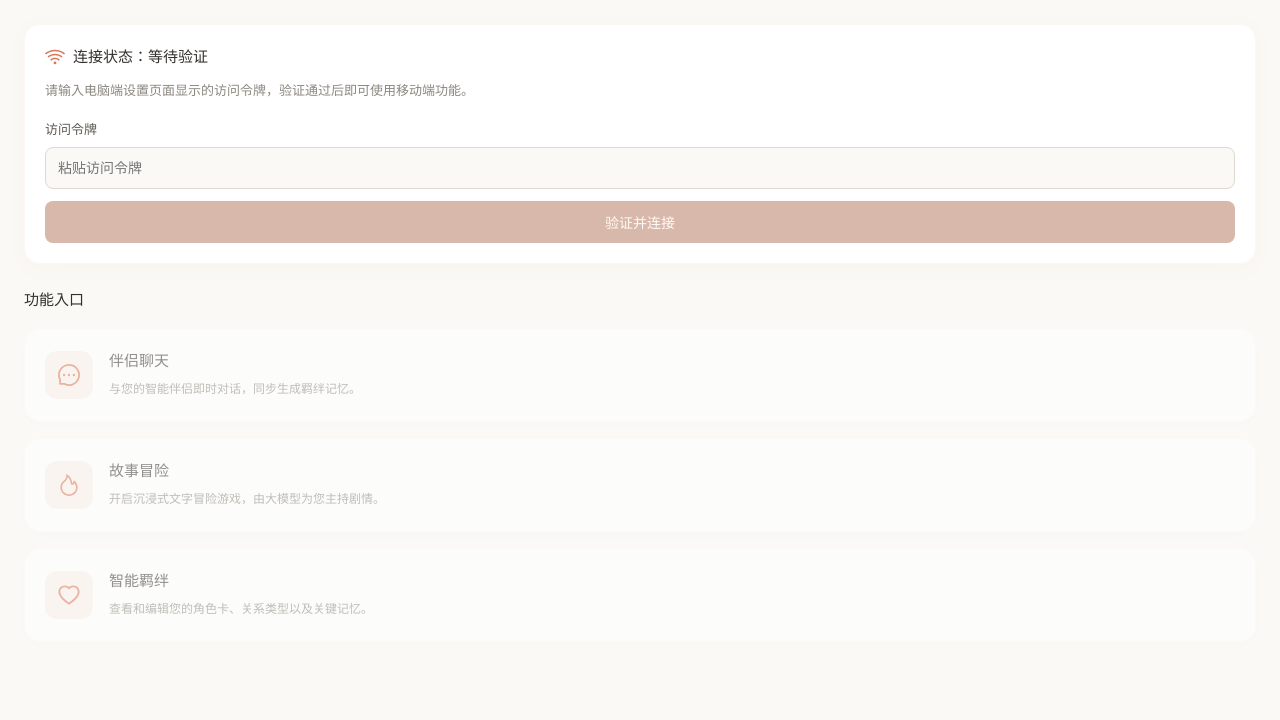
Test: MobileHome navigation buttons › rejects an invalid token and keeps feature entries disabled
The width and height of the screenshot is (1280, 720).
Type "invalid-token" into the password field labelled "访问令牌" at [640, 168], box [45,146,1235,188]
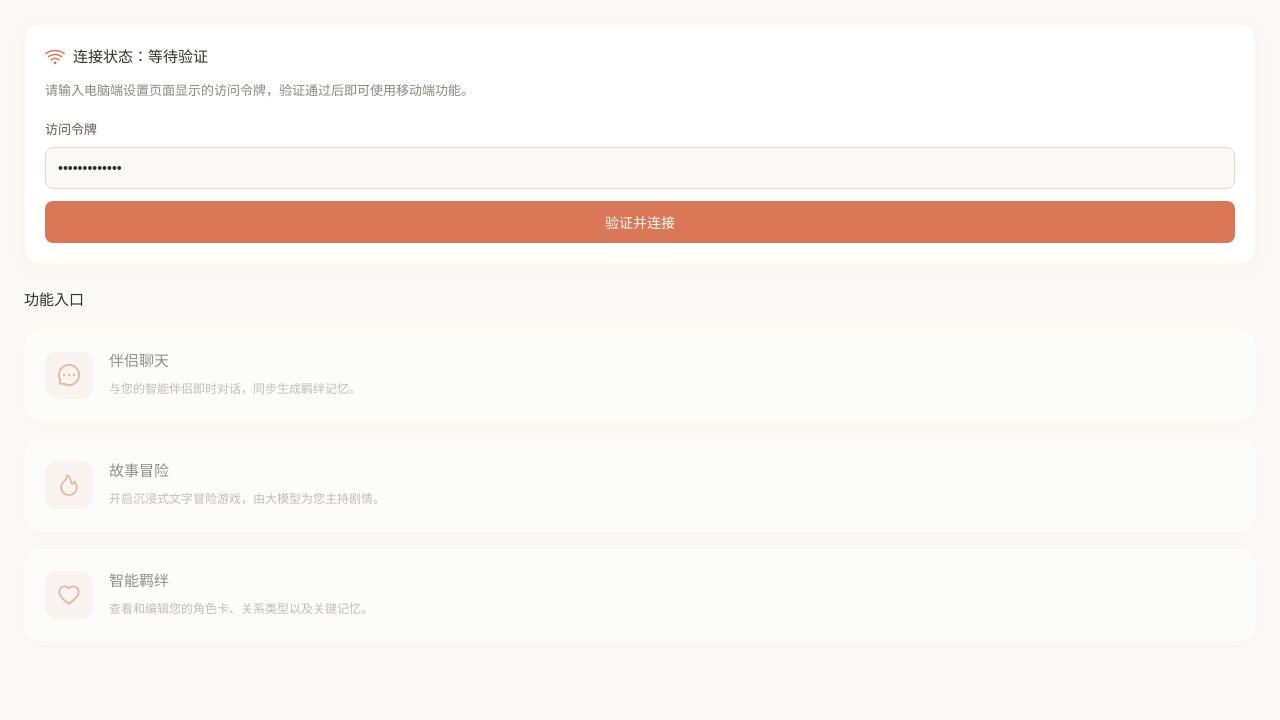
Click the button "验证并连接" at [640, 222], box [45,200,1235,242]
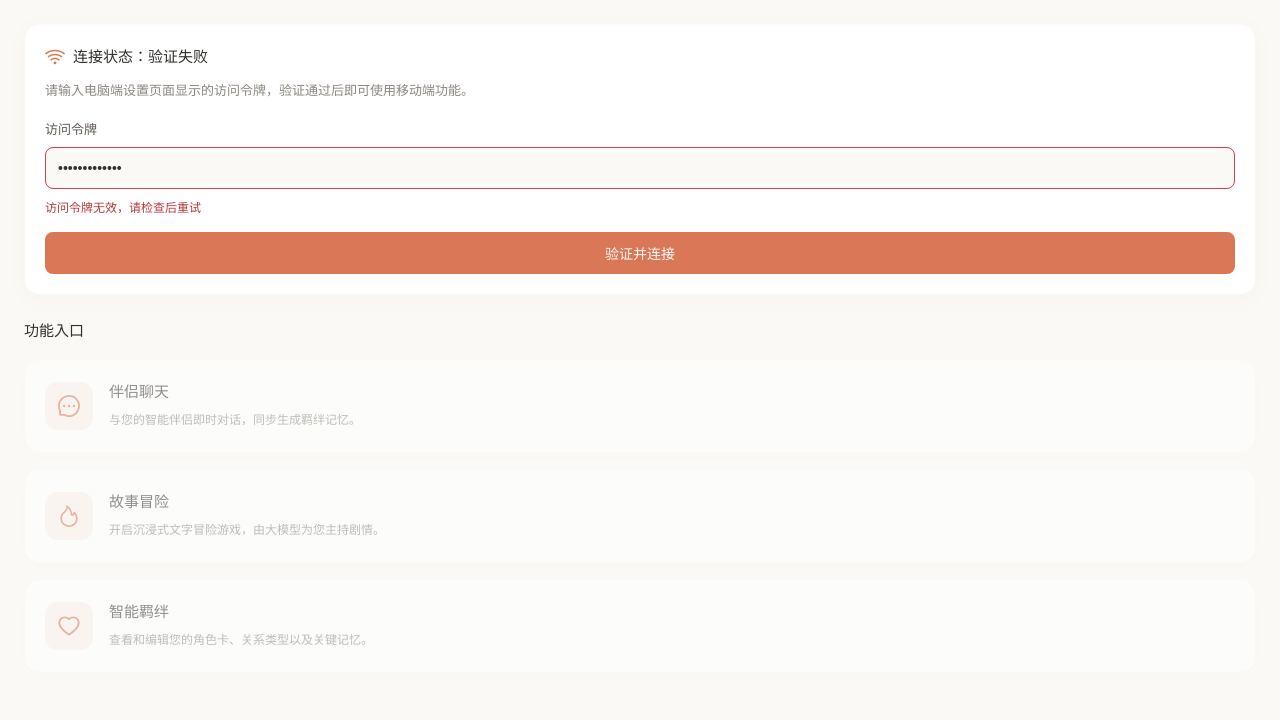
Expected: the button "伴侣聊天 与您的智能伴侣即时对话，同步生成羁绊记忆。" is disabled, [24,358,1256,452]
Now the text "访问令牌无效，请检查后重试" is shown, box [45,200,201,214]
